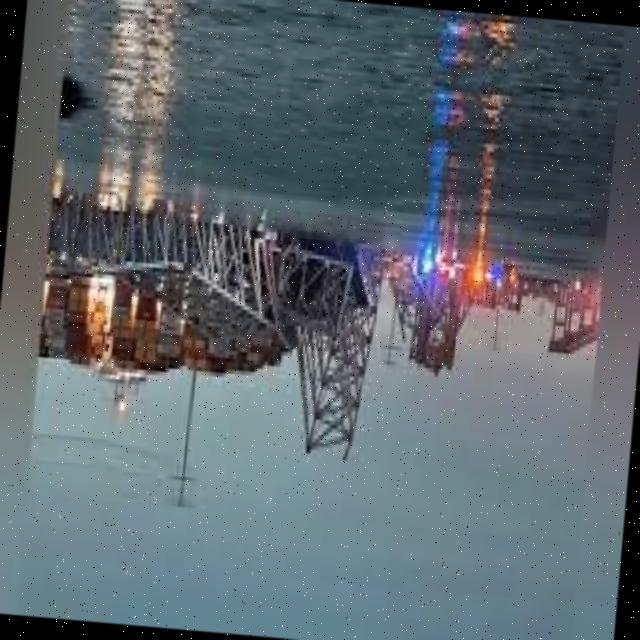bridge collapse: (66, 152, 626, 592)
